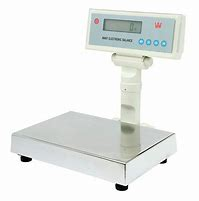Industrial Scale: (10, 7, 186, 192)
